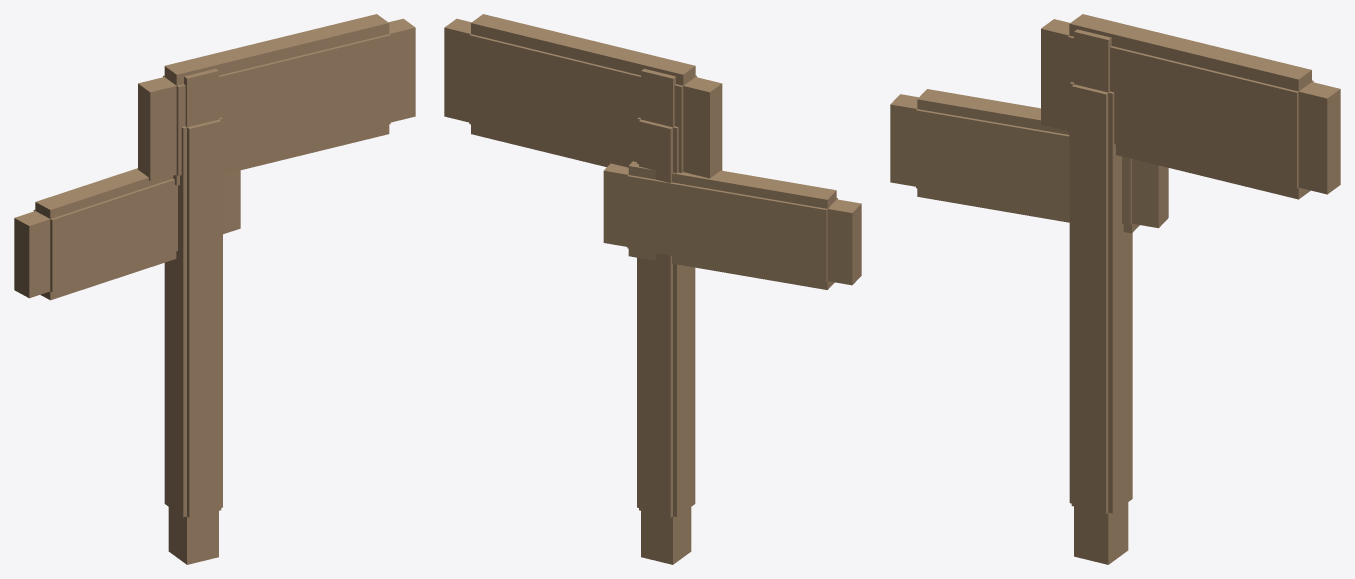
File: env_common_sign_post.glb
3 renders of one model, left to right at view 1: azimuth 30°, elevation 25°; view 2: azimuth 150°, elevation 25°; view 3: azimuth 330°, elevation 25°, orthographic. The views are drawn at different scales.
Parts seen in each view (by area): view 1: box; view 2: box; view 3: box.
Boxes of the visible parts, left/top/right/bottom form: box: left=14, top=14, right=415, bottom=564; box: left=444, top=14, right=861, bottom=564; box: left=890, top=14, right=1340, bottom=564.
Bounding box in the file's own units: 1.2 × 1.41 × 0.1608.
